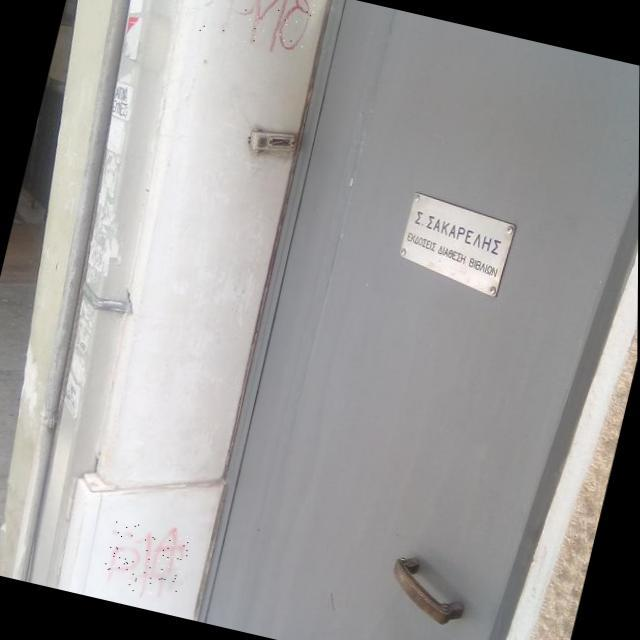-: (101, 518, 193, 601), (198, 0, 319, 58)
